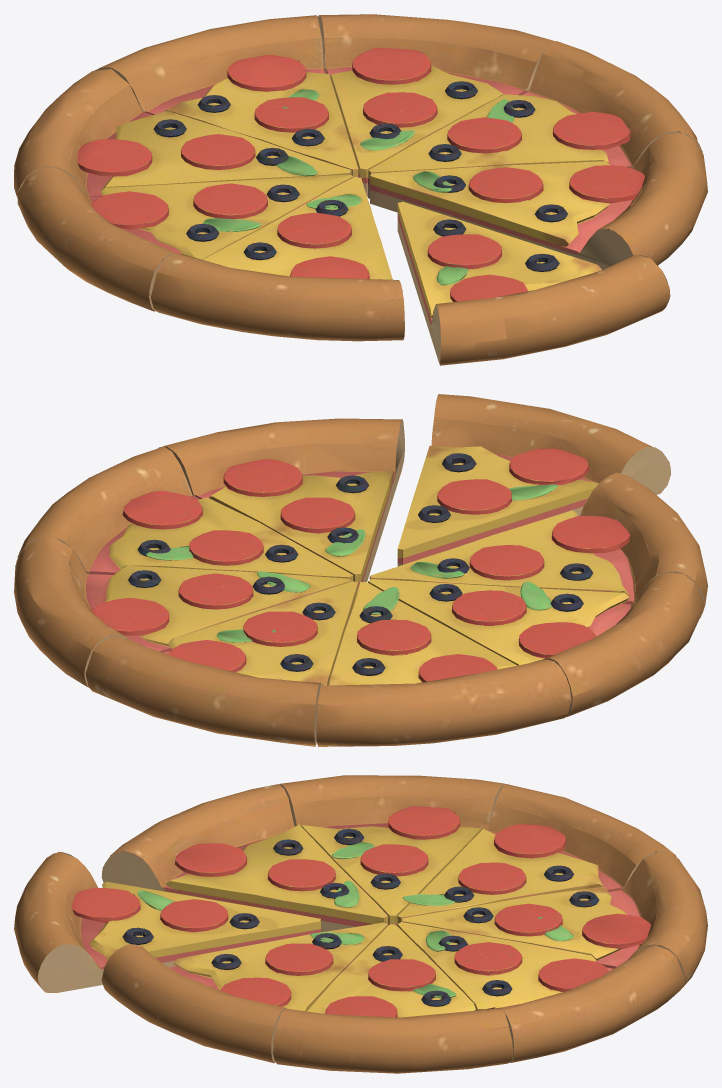
Rendered from mario.glb.
The picture shows the model from 3 angles, top to bottom: view 1: azimuth 30°, elevation 25°; view 2: azimuth 150°, elevation 25°; view 3: azimuth 270°, elevation 25°; orthographic projection. The views are drawn at different scales.
Visible parts, largest first — view 1: pizza_body; view 2: pizza_body; view 3: pizza_body.
Part boxes in pixels (x1,y1,x2,y2): pizza_body: (14, 14, 707, 365); pizza_body: (14, 394, 707, 746); pizza_body: (14, 775, 707, 1073).
Size of the model in its own units: 0.3032 by 0.0256 by 0.3328.
2 materials, 2 textured.
